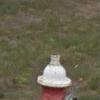Hydrant: (31, 39, 75, 100)
